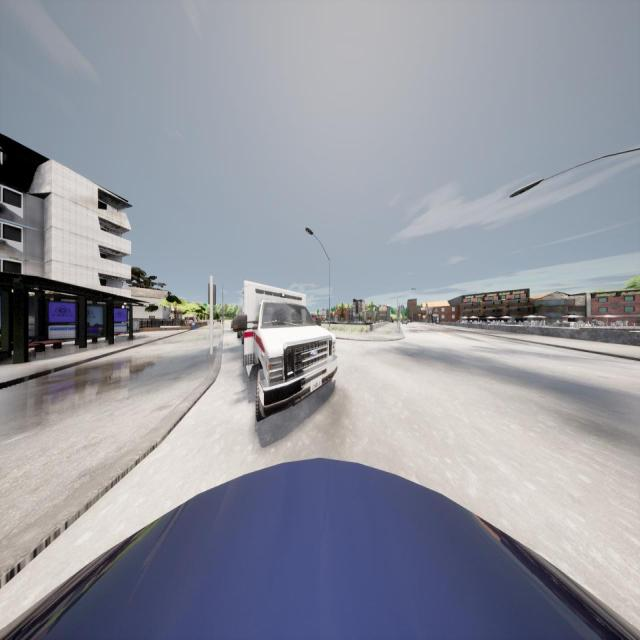Vehicle: (1, 456, 640, 640), (231, 280, 337, 420), (402, 320, 407, 326)
traffic_light: (208, 284, 216, 304), (398, 306, 402, 313)
